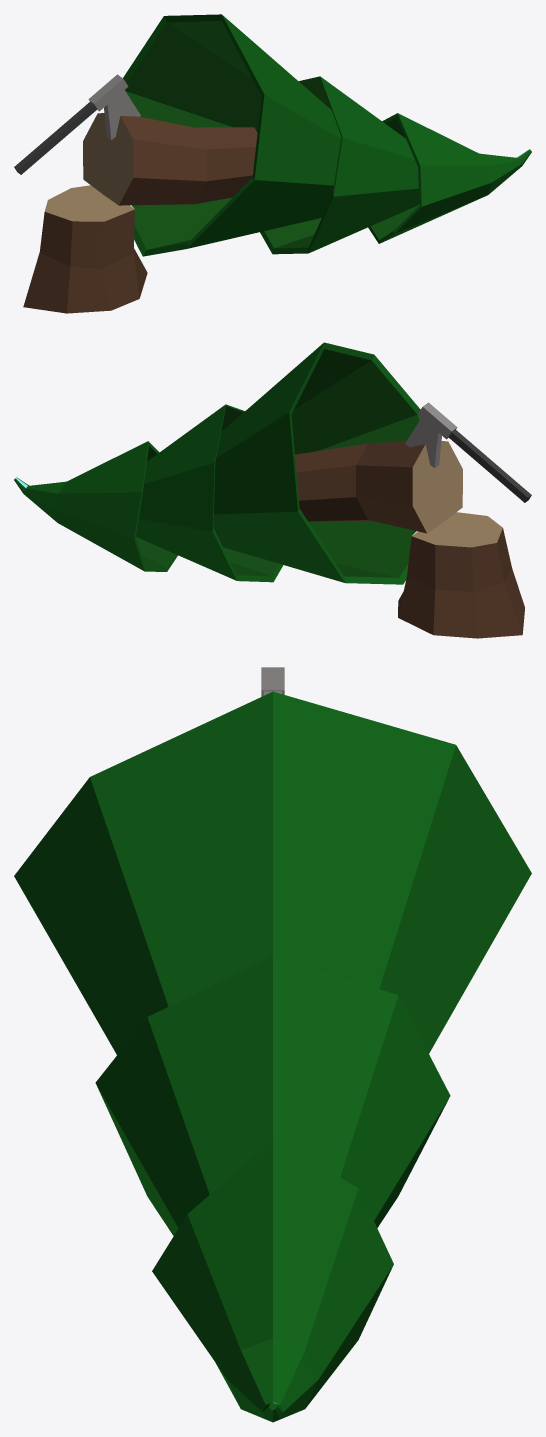
The model's file is ArvoreCaida.fbx.
3 views of the same model, one above another, from view 1: azimuth 30°, elevation 25°; view 2: azimuth 150°, elevation 25°; view 3: azimuth 270°, elevation 25° (orthographic). The views are drawn at different scales.
Visible parts, largest first — view 1: ArvoreCaida; view 2: ArvoreCaida; view 3: ArvoreCaida.
Part boxes in pixels (x1,y1,x2,y2): ArvoreCaida: (14,14,531,313); ArvoreCaida: (14,342,531,638); ArvoreCaida: (14,667,531,1422).
Size of the model in its own units: 711 by 353 by 314.
